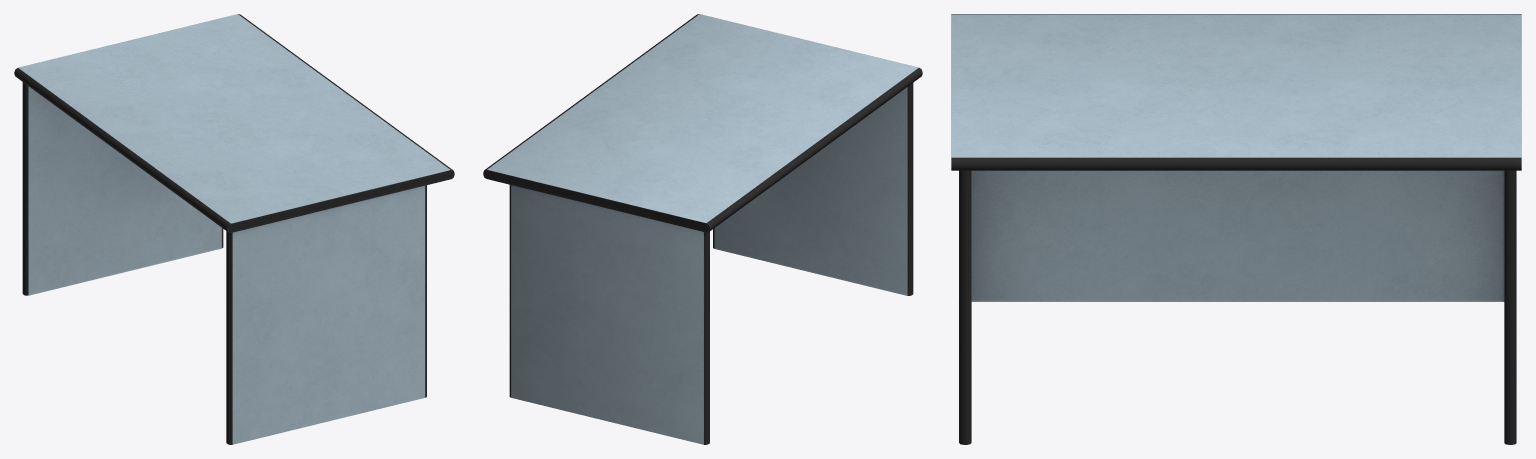
The model's file is table2.glb.
3 renders of one model, left to right at view 1: azimuth 30°, elevation 25°; view 2: azimuth 150°, elevation 25°; view 3: azimuth 270°, elevation 25°, orthographic. The views are drawn at different scales.
Parts seen in each view (by area): view 1: table.009; view 2: table.009; view 3: table.009.
Boxes of the visible parts, x1,y1,x2,y2 form: table.009: (14,14,454,444); table.009: (483,14,922,444); table.009: (951,14,1521,444).
Bounding box in the file's own units: 0.8 × 0.755 × 1.3.
Materials: 1 (1 with a texture image).
